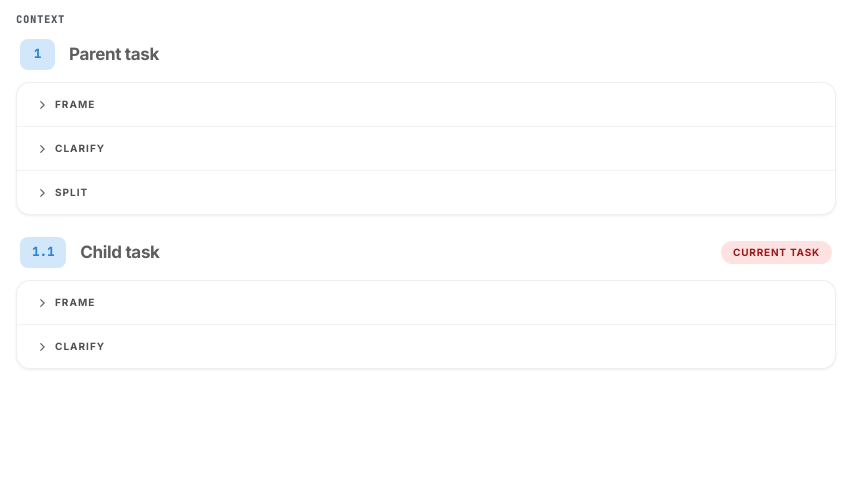
FrameContextFeedBlock › renders split panel using document chrome for ancestor nodes
Click the button "Split": (72, 192) [17,171,835,214]
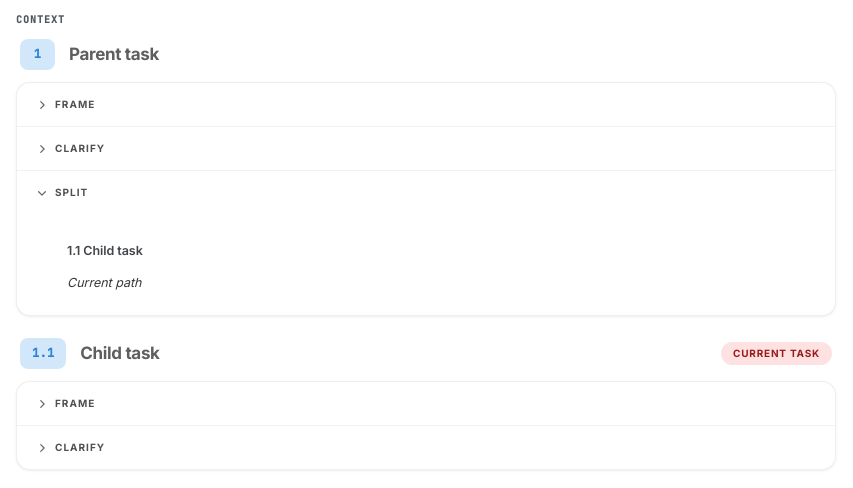
Expected: the element with test id "frame-context-panel-body-split" shows "Child task", [67,243,143,258]
